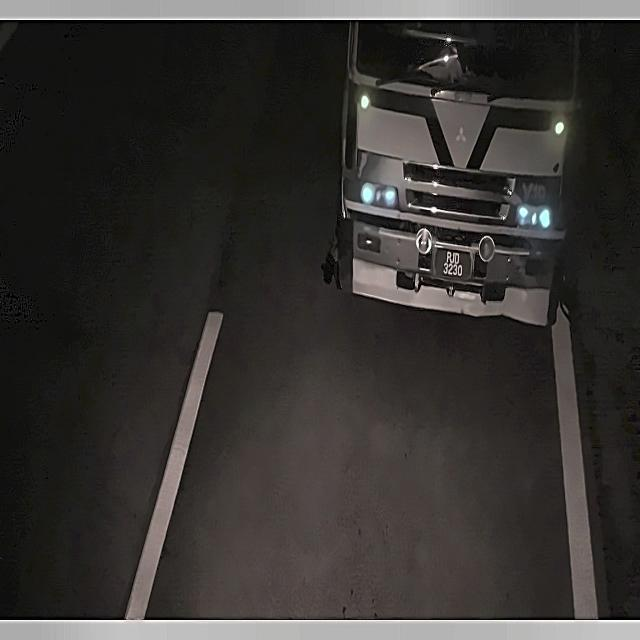car: (433, 240, 474, 294)
